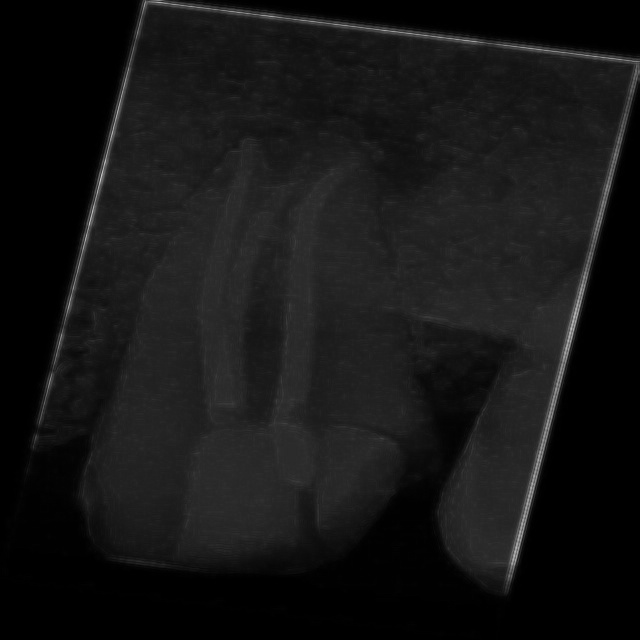Class 1- complete endodontic treatment: (18, 80, 564, 604)
